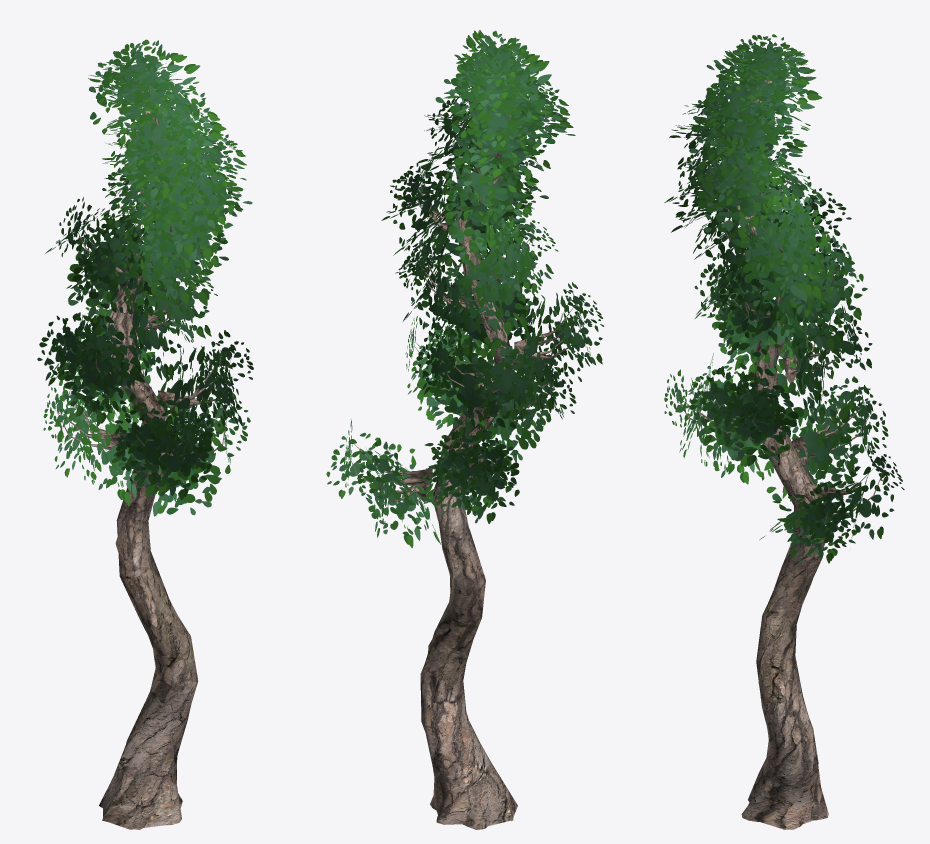
File: Tree3.fbx
3 renders of one model, left to right at view 1: azimuth 30°, elevation 25°; view 2: azimuth 150°, elevation 25°; view 3: azimuth 270°, elevation 25°, orthographic.
Parts seen in each view (by area): view 1: Tree3_LOD0; view 2: Tree3_LOD0; view 3: Tree3_LOD0.
Part boxes in pixels (x1,y1,x2,y2): Tree3_LOD0: (37, 39, 253, 829); Tree3_LOD0: (326, 30, 603, 829); Tree3_LOD0: (664, 34, 904, 829).
Size of the model in its own units: 317 by 939 by 296.
2 materials, 2 textured.
